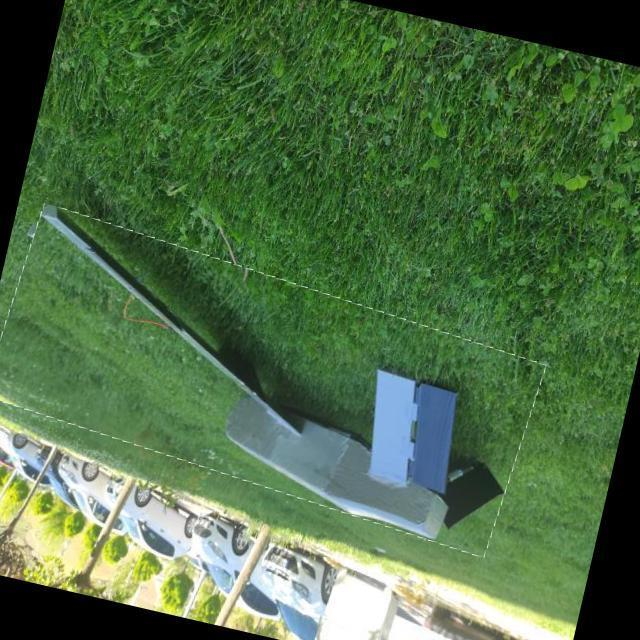iha: (0, 193, 570, 604)
